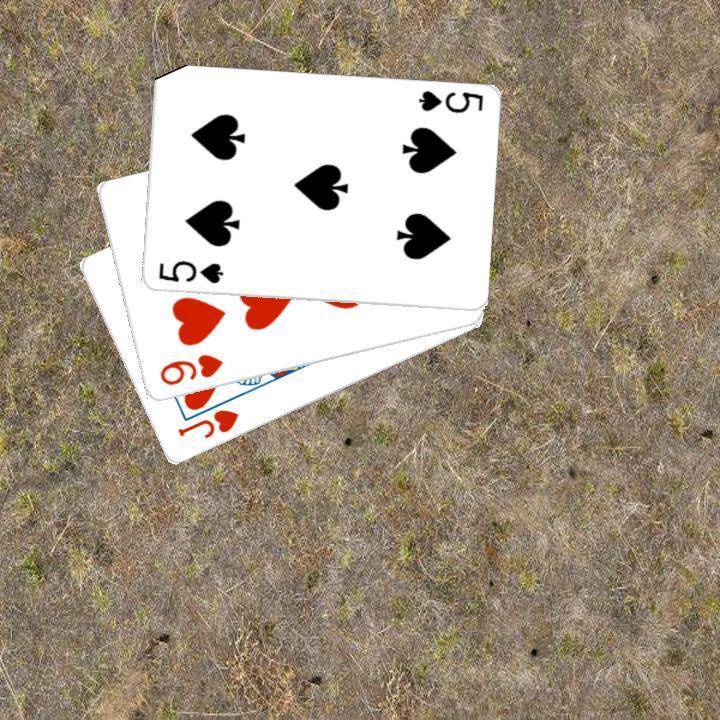5: (153, 256, 225, 287), (413, 87, 484, 116)
9: (155, 350, 225, 388)
J: (173, 405, 241, 441)
